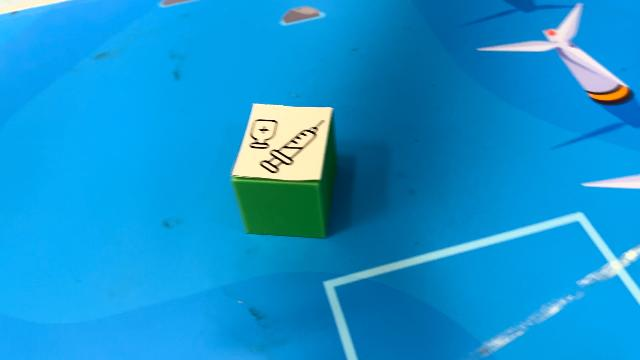syringe: (230, 102, 336, 238)
